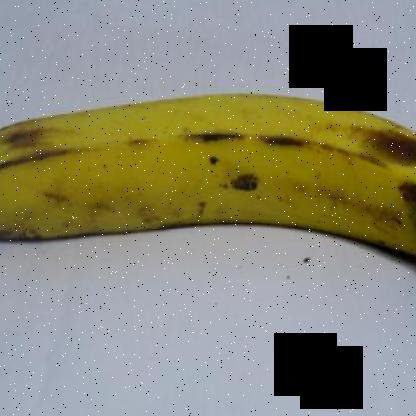ripe: (1, 81, 415, 279)
